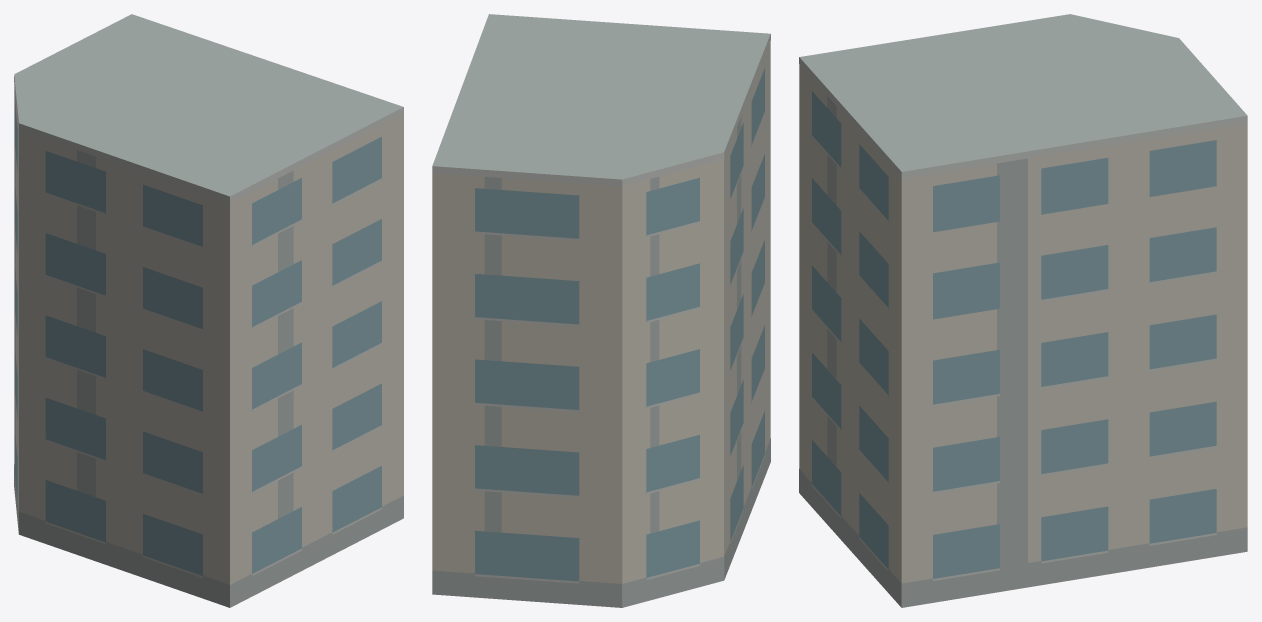
File: residential-5186254e-db01-4da7-8d72-f0167434bde0.glb
The picture shows the model from 3 angles, left to right: view 1: azimuth 30°, elevation 25°; view 2: azimuth 150°, elevation 25°; view 3: azimuth 270°, elevation 25°; orthographic projection. The views are drawn at different scales.
Visible parts, largest first — view 1: residential-5186254e-db01-4da7-8d72-f0167434bde0.tmp; view 2: residential-5186254e-db01-4da7-8d72-f0167434bde0.tmp; view 3: residential-5186254e-db01-4da7-8d72-f0167434bde0.tmp.
Part boxes in pixels (box(x1,y1,x2,y2)): residential-5186254e-db01-4da7-8d72-f0167434bde0.tmp: box(14, 14, 403, 607); residential-5186254e-db01-4da7-8d72-f0167434bde0.tmp: box(432, 14, 770, 607); residential-5186254e-db01-4da7-8d72-f0167434bde0.tmp: box(799, 14, 1247, 607).
Size of the model in its own units: 11.66 by 15 by 13.99.
